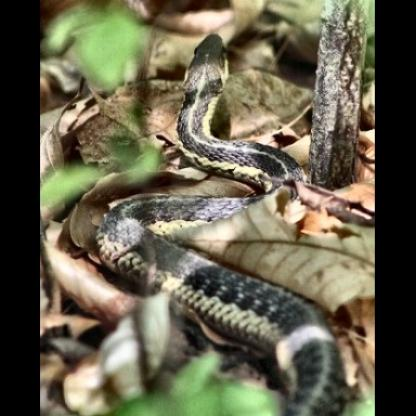Snake: (96, 24, 328, 342)
